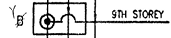Single Phase Tap-Off Unit: (29, 1, 88, 37)
